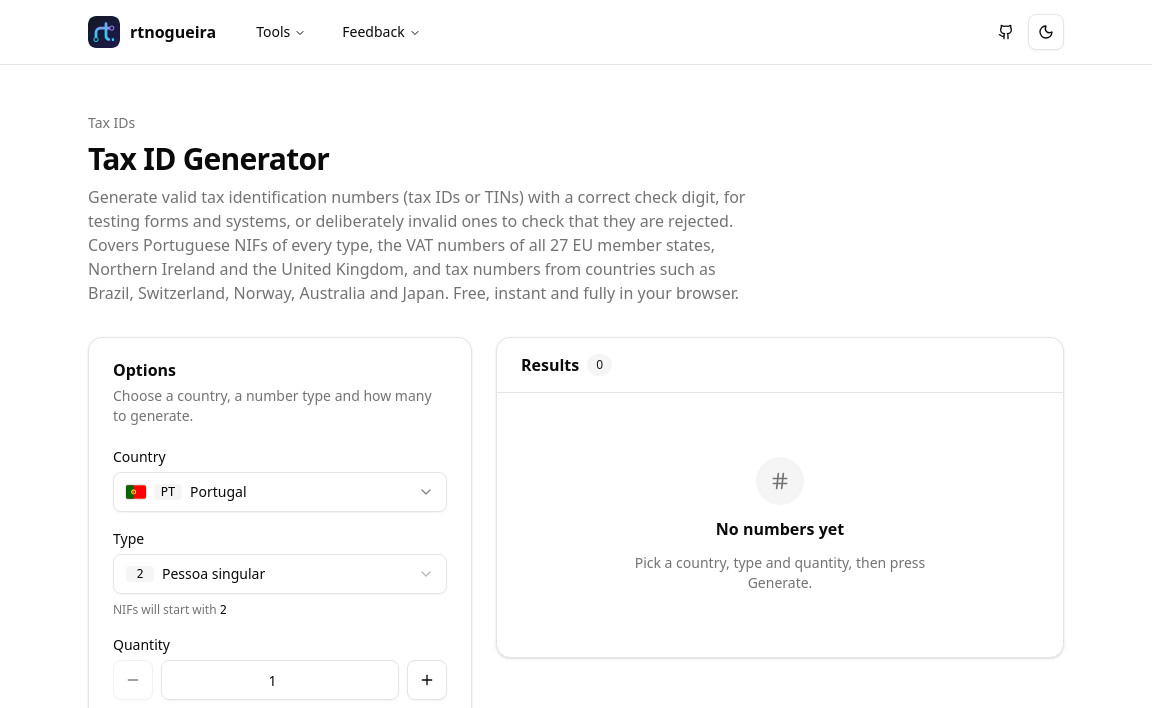
Test: Tax ID validator page › is reachable from the Tools menu and sets the page title
The width and height of the screenshot is (1152, 708).
Click the button "Tools" at [281, 32], box left=240, top=14, right=322, bottom=50
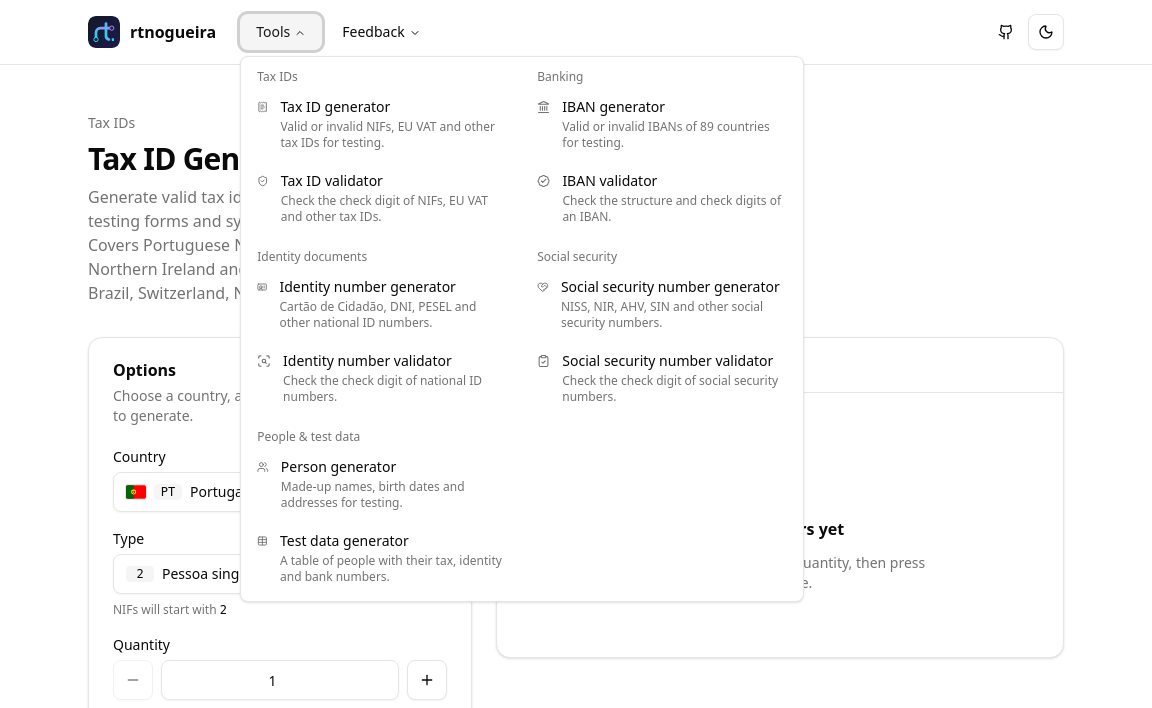
Click the link "Tax ID validator" at [381, 198], box left=249, top=163, right=513, bottom=233
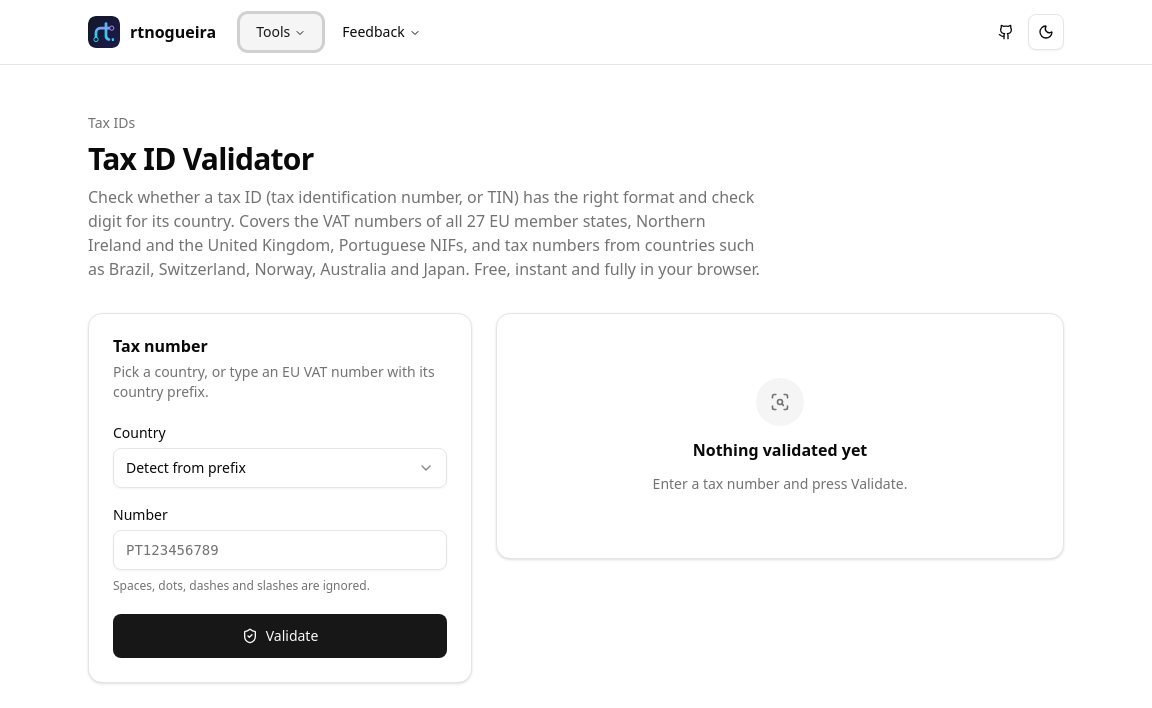
Expected: the heading "Tax ID Validator" is shown, left=88, top=138, right=314, bottom=179
